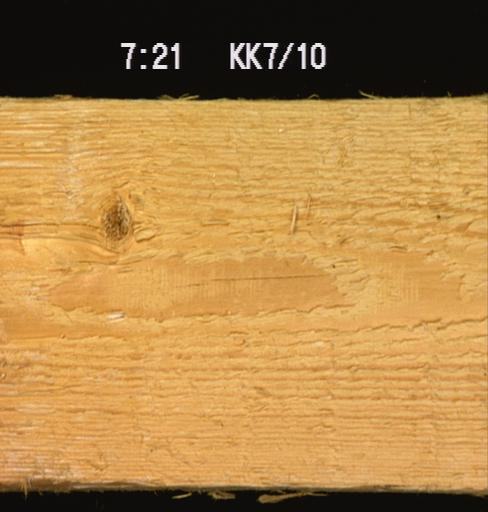sound_knot: (97, 194, 135, 246)
split: (182, 261, 347, 286), (0, 207, 99, 235)
wave: (0, 467, 170, 492)
